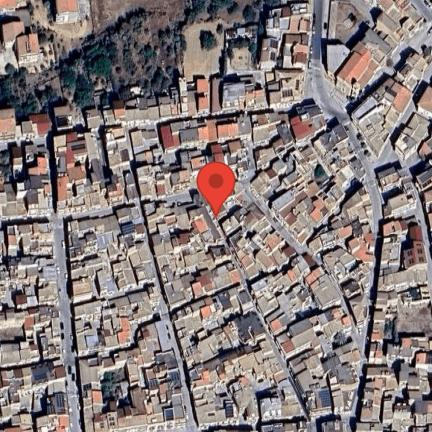area_open: (303, 71, 355, 125), (386, 287, 432, 342), (329, 0, 371, 44), (230, 220, 272, 254), (235, 314, 266, 349), (224, 56, 263, 83), (228, 181, 253, 211), (249, 376, 280, 398), (327, 141, 354, 164), (0, 40, 21, 65), (156, 322, 173, 351), (415, 26, 432, 50), (379, 145, 399, 165), (97, 233, 114, 252), (106, 280, 119, 298), (301, 215, 315, 230), (388, 390, 407, 401), (335, 267, 347, 284), (73, 109, 84, 125), (6, 290, 15, 306)
built: (77, 322, 188, 432), (147, 190, 244, 307), (327, 0, 426, 92), (352, 48, 432, 158), (190, 342, 285, 425), (172, 277, 255, 368), (251, 254, 340, 334), (138, 139, 248, 201), (73, 285, 161, 351), (309, 184, 375, 272), (0, 359, 74, 432), (294, 341, 363, 418), (276, 306, 353, 371), (270, 181, 347, 245), (53, 133, 111, 212), (103, 79, 208, 122), (212, 68, 304, 115), (67, 205, 140, 260), (382, 353, 432, 432), (0, 307, 62, 370), (0, 144, 52, 219), (106, 223, 157, 291), (161, 115, 251, 151), (372, 313, 432, 364), (250, 150, 321, 193), (394, 85, 432, 161), (0, 259, 58, 308), (104, 126, 137, 203), (253, 112, 294, 170), (239, 239, 299, 278), (343, 264, 380, 327), (384, 217, 429, 267), (361, 366, 398, 423), (265, 2, 316, 38), (1, 21, 41, 66), (262, 381, 304, 421), (6, 223, 53, 258), (222, 199, 265, 237), (291, 104, 327, 143), (311, 123, 350, 158), (383, 178, 417, 217), (146, 351, 182, 387), (71, 258, 109, 291), (280, 34, 311, 72), (376, 269, 426, 291), (331, 160, 367, 190), (13, 114, 51, 139), (418, 168, 431, 235), (375, 166, 411, 190), (367, 0, 399, 20), (55, 0, 80, 24), (260, 39, 279, 66), (71, 279, 92, 303), (261, 421, 311, 431), (382, 239, 402, 264), (262, 231, 287, 251), (0, 109, 15, 141), (131, 129, 159, 146), (224, 25, 255, 40), (55, 106, 74, 130), (136, 148, 162, 163), (321, 417, 346, 432), (83, 109, 100, 128), (379, 293, 399, 307), (356, 422, 384, 431), (424, 136, 432, 166), (0, 0, 17, 14)
vegetation_high: (0, 6, 156, 123), (101, 23, 185, 106)
vegetation_low: (25, 1, 158, 91), (174, 0, 302, 76), (107, 0, 183, 87), (101, 367, 129, 410), (227, 41, 257, 63)
